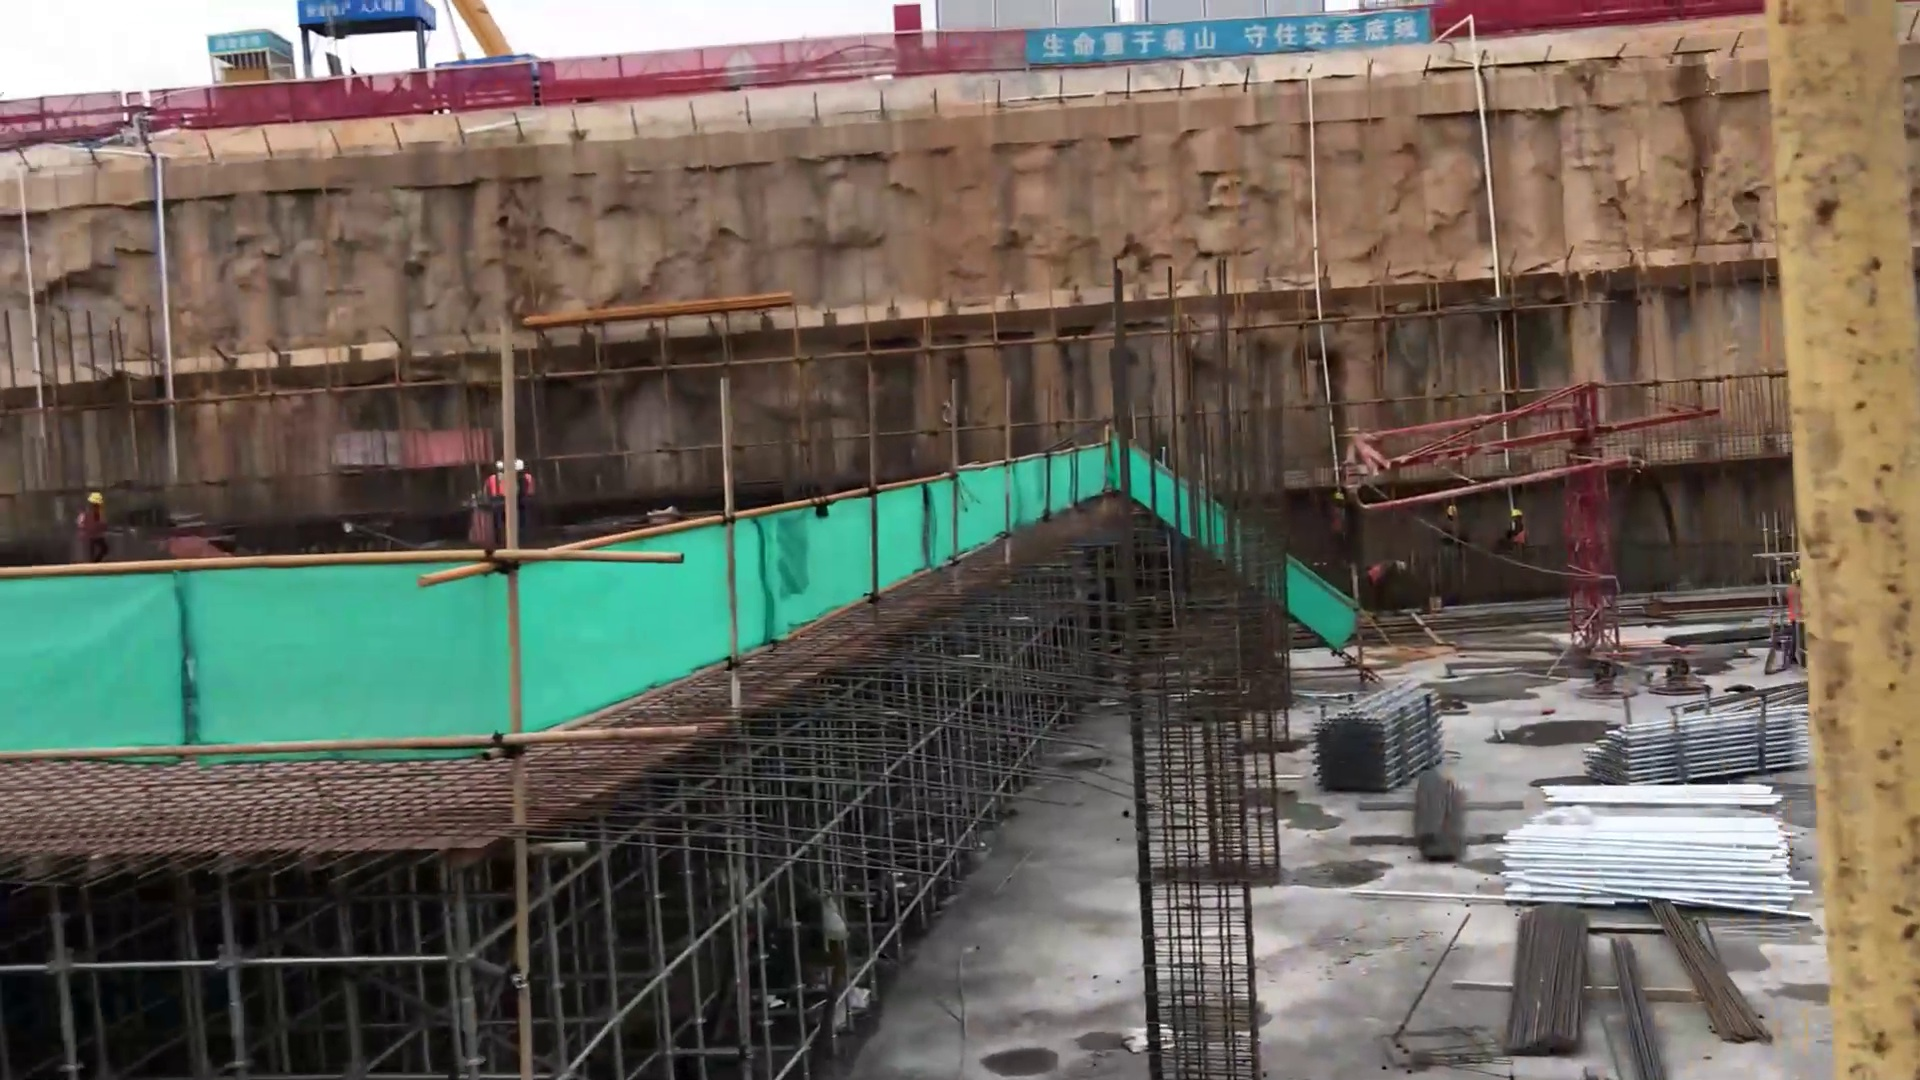fence: (15, 40, 556, 193), (551, 26, 1004, 98)
helmet: (86, 491, 103, 505)
rebar: (1498, 874, 1597, 1080)
scaffold: (1569, 636, 1811, 796), (1304, 658, 1461, 807)
slogan: (1021, 15, 1435, 65), (302, 1, 452, 46), (187, 22, 301, 74)
